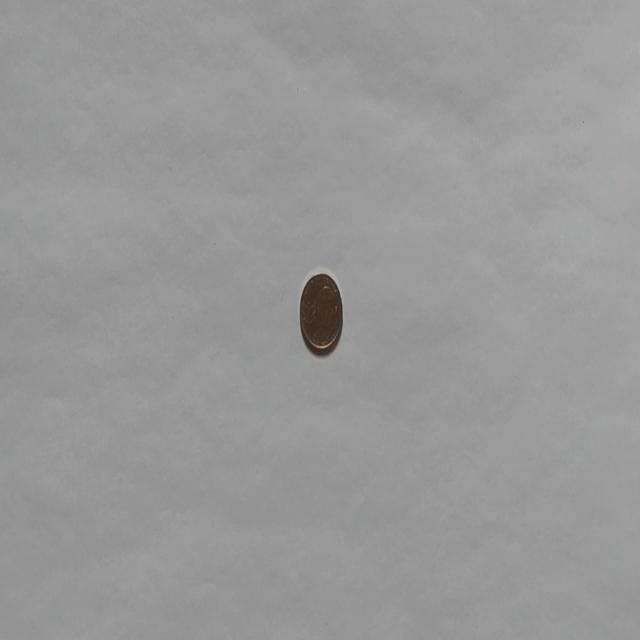seribu rupiah koin: (298, 268, 344, 354)
